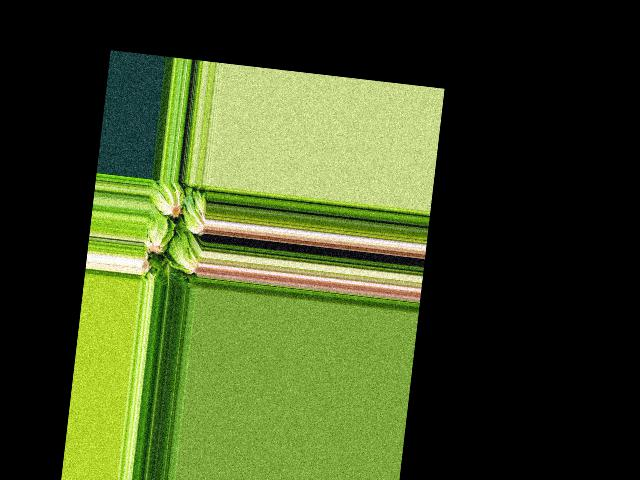lettuce: (153, 260, 180, 287)
